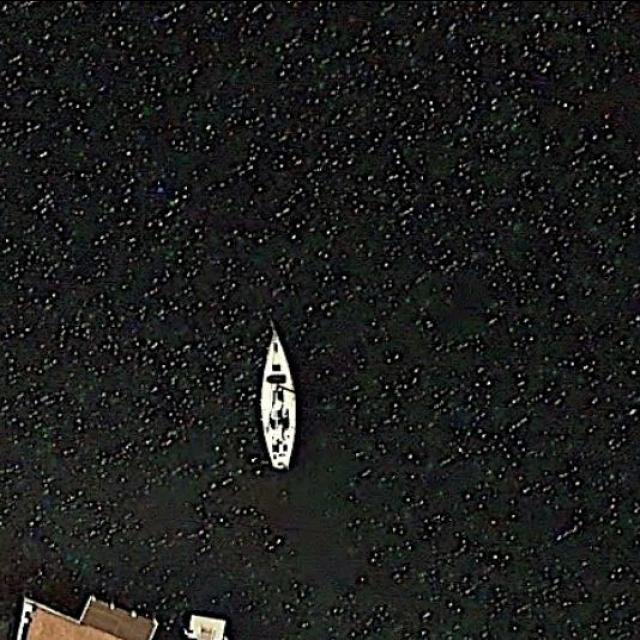ship: (258, 324, 298, 472)
